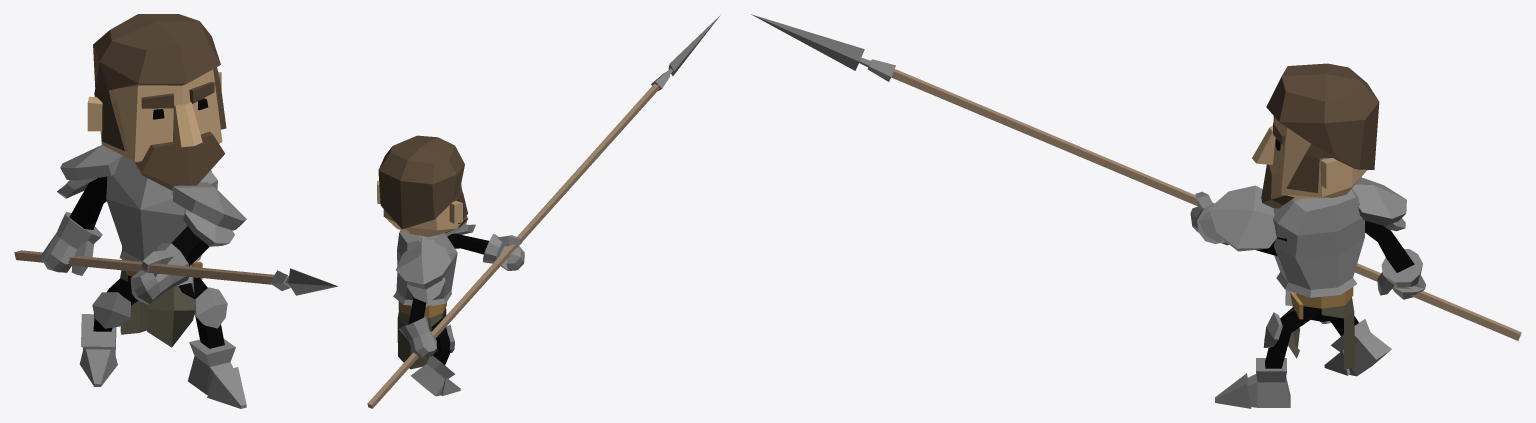
3 views of the same model, side by side, from view 1: azimuth 30°, elevation 25°; view 2: azimuth 150°, elevation 25°; view 3: azimuth 270°, elevation 25° (orthographic). The views are drawn at different scales.
Parts seen in each view (by area): view 1: Soldier_1; view 2: Soldier_1; view 3: Soldier_1.
Part boxes in pixels (x1,y1,x2,y2): Soldier_1: (14,14,337,408); Soldier_1: (367,15,720,408); Soldier_1: (751,14,1521,408).
Size of the model in its own units: 0.9418 by 1.58 by 3.46.
9 materials, 1 textured.
